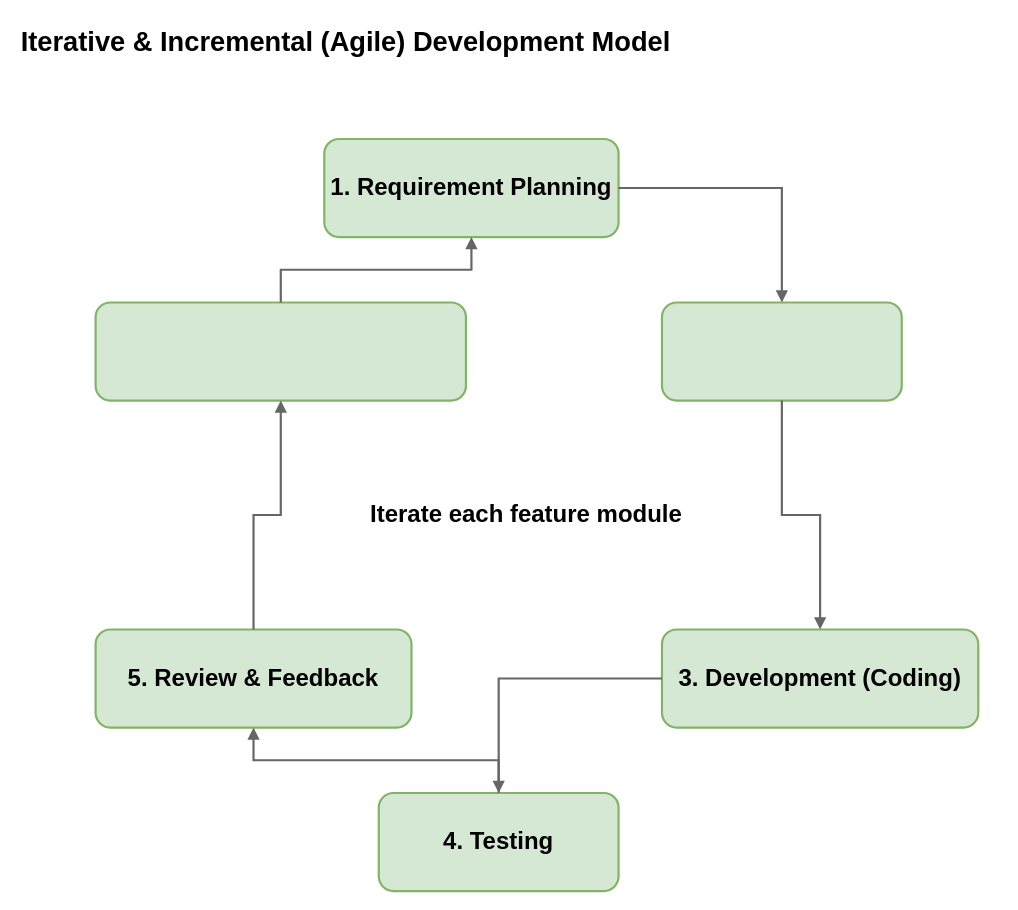
Image size: 1018x910. Some labels were removed from this diagram. Each missing label, with the box of its shape:
2. Design: (660, 301, 902, 401)
6. Deployment / Next Iteration: (94, 301, 467, 401)
